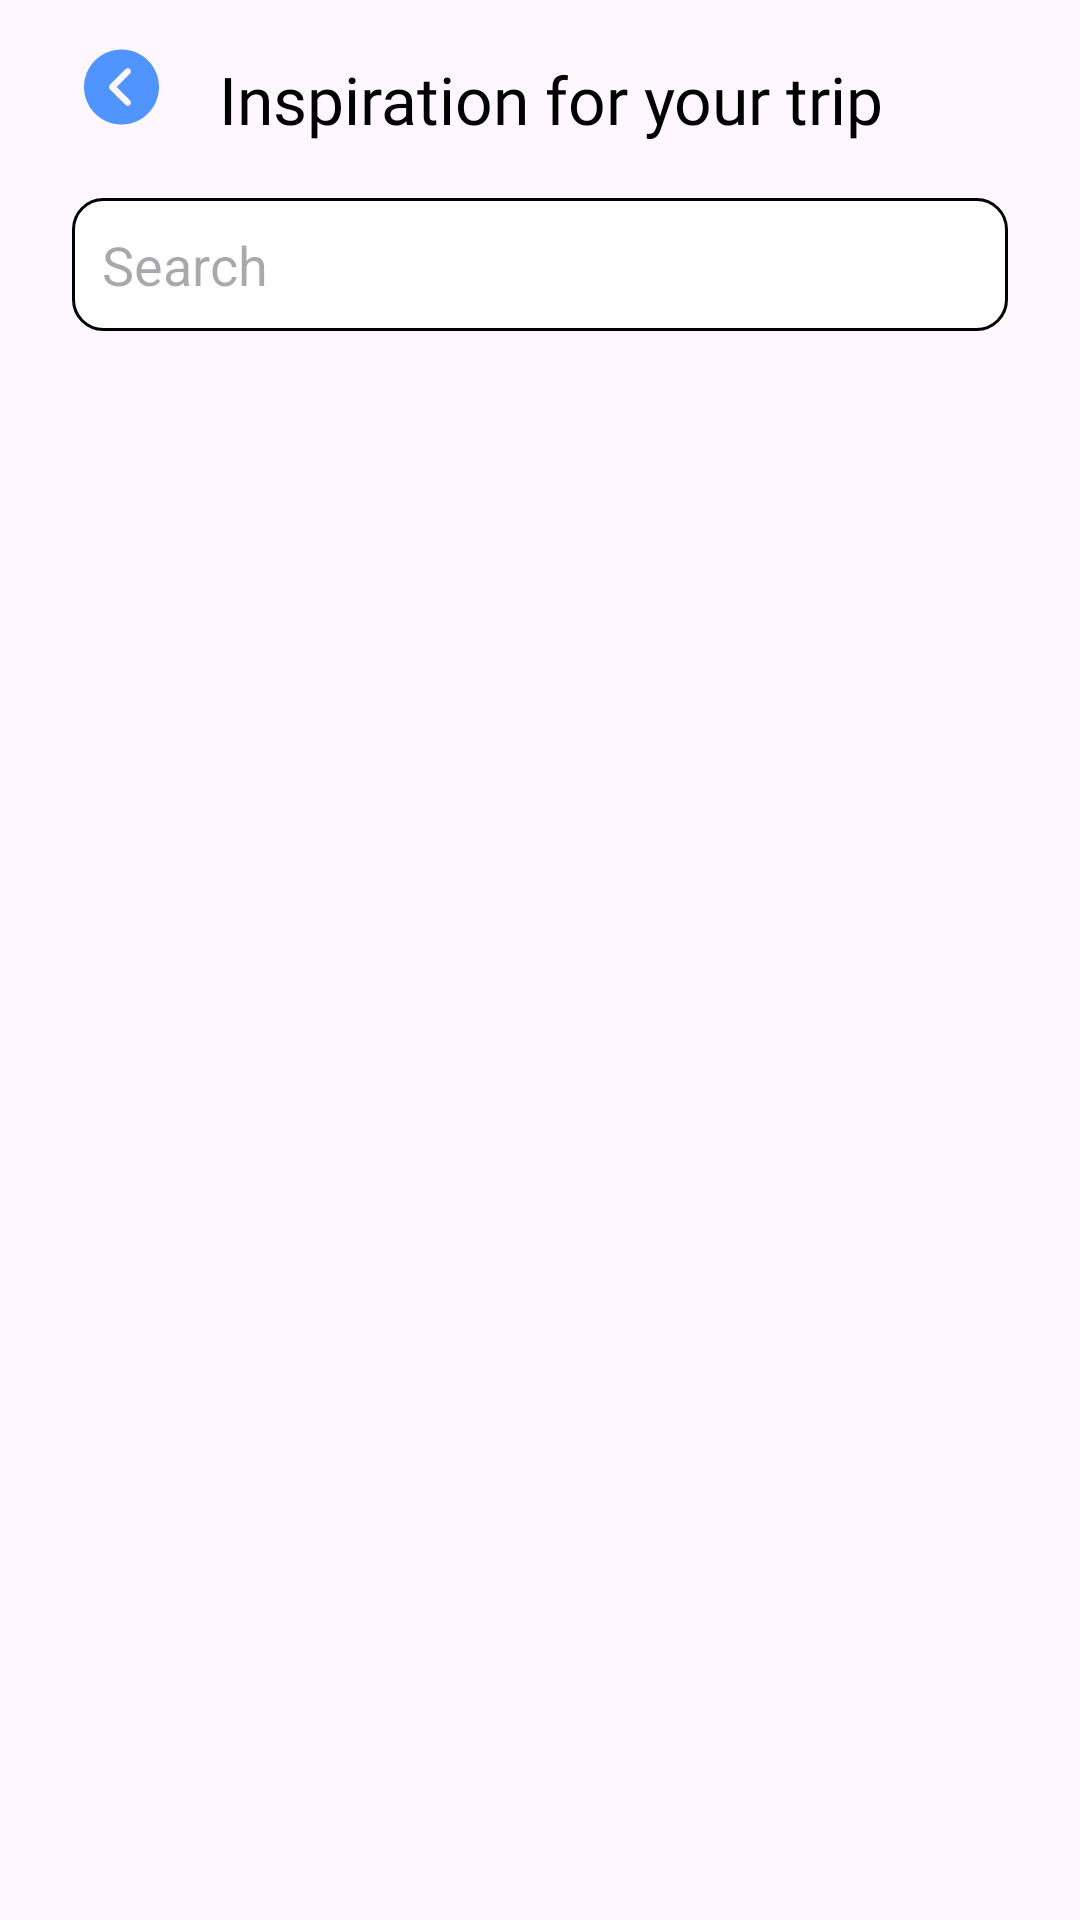

Named icons in this screenshot (1080px x 1920px) and their bounding boxes, {"left": x1, "top": y1, "right": x2, "bottom": y2}:
back: {"left": 84, "top": 49, "right": 159, "bottom": 125}
